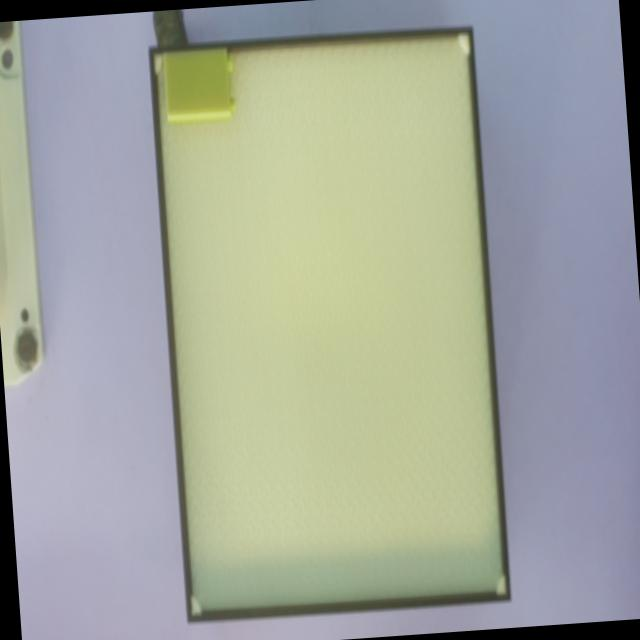Bateria: (164, 48, 230, 121)
Mesa: (148, 27, 511, 624)
Pestana: (227, 57, 233, 73), (230, 97, 235, 109)
